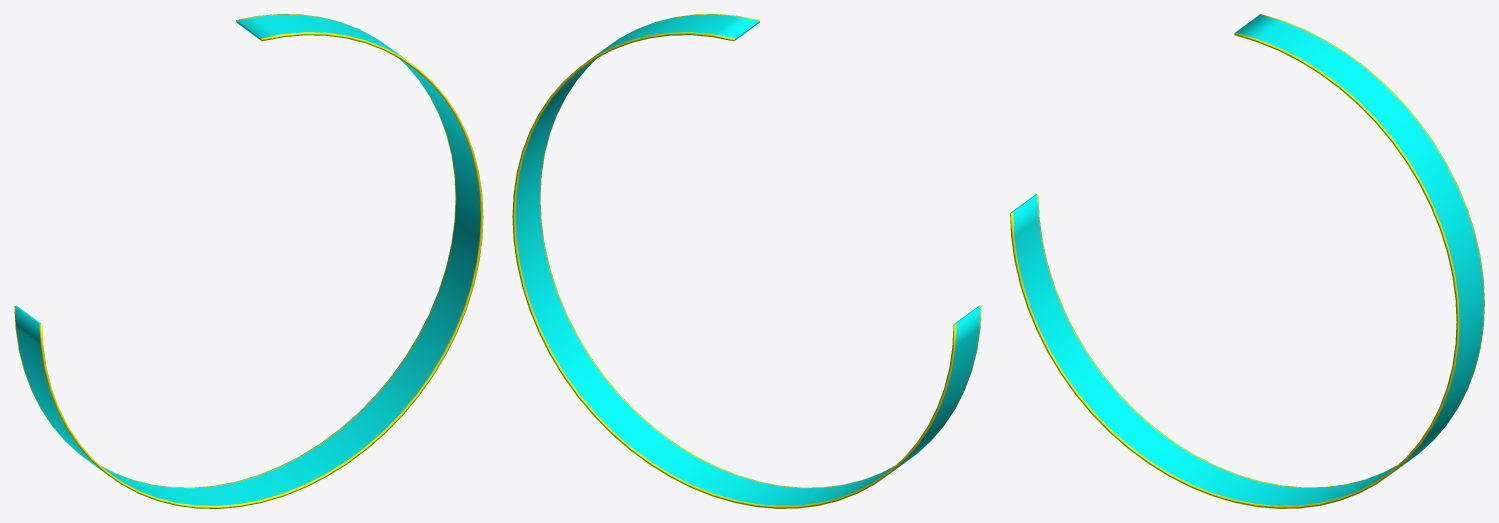
Rendered from TouchNote11.fbx.
3 renders of one model, left to right at view 1: azimuth 30°, elevation 25°; view 2: azimuth 150°, elevation 25°; view 3: azimuth 330°, elevation 25°, orthographic.
Visible parts, largest first — view 1: TouchNote11; view 2: TouchNote11; view 3: TouchNote11.
Part boxes in pixels (<box>): TouchNote11: <box>14,14,483,508</box>; TouchNote11: <box>512,14,981,508</box>; TouchNote11: <box>1010,14,1484,508</box>.
Size of the model in its own units: 198 by 20 by 198.
